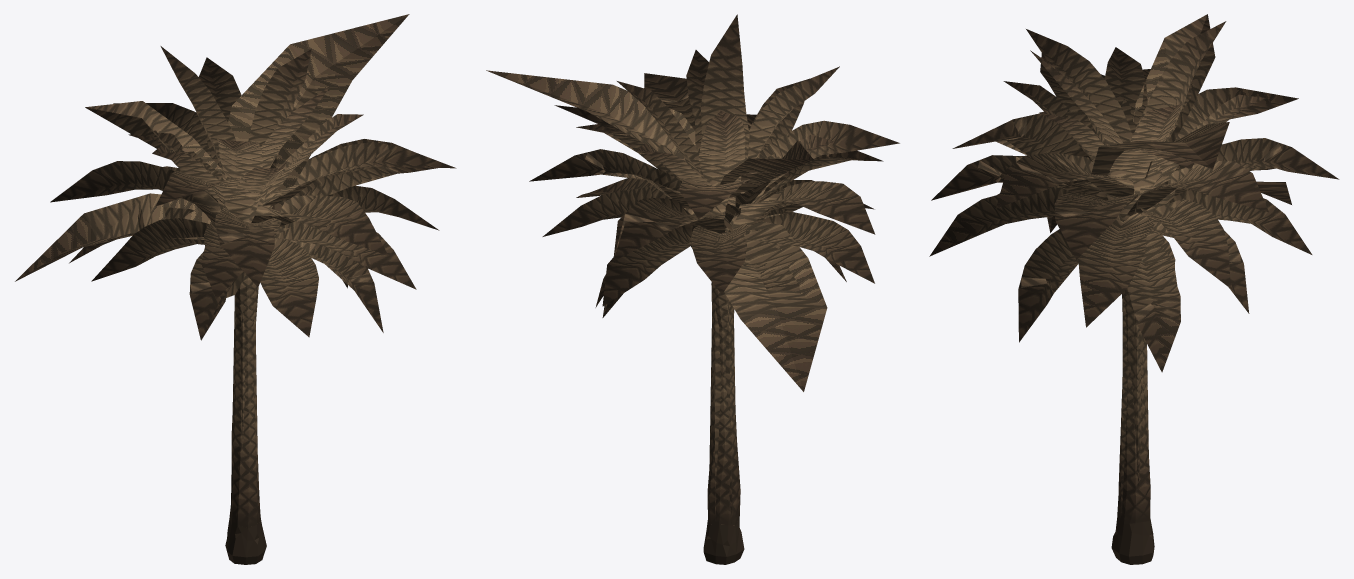
The model's file is sc-palm-b.glb.
The picture shows the model from 3 angles, left to right: view 1: azimuth 30°, elevation 25°; view 2: azimuth 150°, elevation 25°; view 3: azimuth 270°, elevation 25°; orthographic projection. The views are drawn at different scales.
Visible parts, largest first — view 1: SM_Env_Tree_Palm_05_LOD0, SM_Env_Tree_Palm_05_LOD1_L2; view 2: SM_Env_Tree_Palm_05_LOD0, SM_Env_Tree_Palm_05_LOD1_L2; view 3: SM_Env_Tree_Palm_05_LOD0, SM_Env_Tree_Palm_05_LOD1_L2.
Boxes of the visible parts, box(x1,y1,x2,y2) form: SM_Env_Tree_Palm_05_LOD0: box(50, 46, 455, 564); SM_Env_Tree_Palm_05_LOD1_L2: box(15, 14, 456, 521); SM_Env_Tree_Palm_05_LOD0: box(529, 14, 899, 564); SM_Env_Tree_Palm_05_LOD1_L2: box(486, 70, 855, 523); SM_Env_Tree_Palm_05_LOD0: box(929, 21, 1339, 564); SM_Env_Tree_Palm_05_LOD1_L2: box(936, 14, 1324, 517).
Size of what is drawn, in the model's own units: 18.73 by 24 by 16.88.
Materials: 1 (1 with a texture image).
